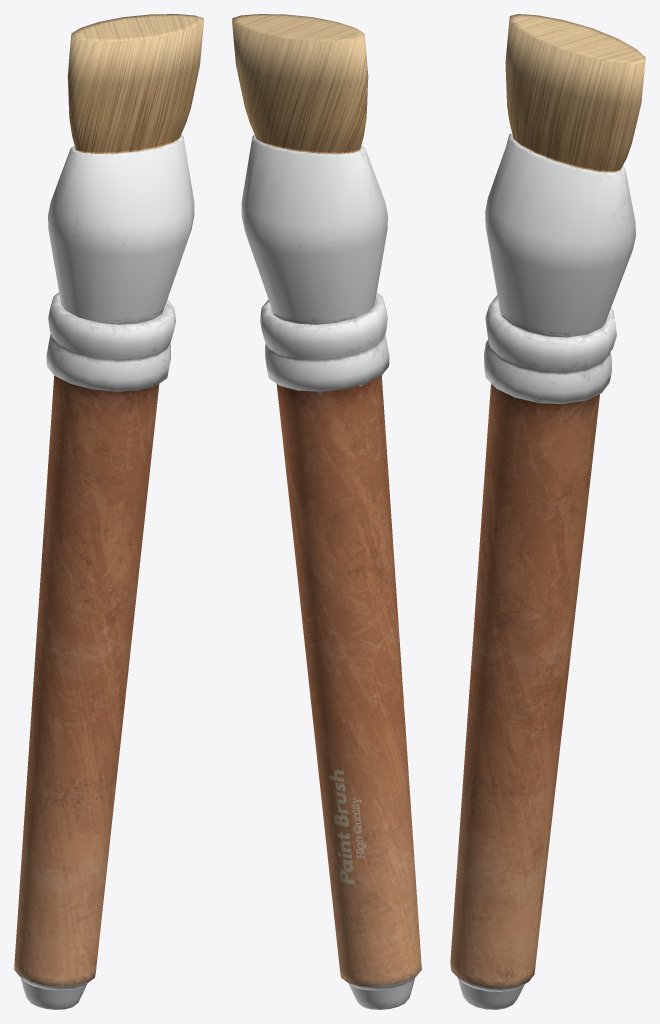
Rendered from clean_paint_brush.glb.
3 renders of one model, left to right at view 1: azimuth 30°, elevation 25°; view 2: azimuth 150°, elevation 25°; view 3: azimuth 330°, elevation 25°, orthographic. The views are drawn at different scales.
Visible parts, largest first — view 1: PaintBrush_LP; view 2: PaintBrush_LP; view 3: PaintBrush_LP.
Part boxes in pixels (x1,y1,x2,y2): PaintBrush_LP: (14, 14, 203, 1009); PaintBrush_LP: (232, 14, 421, 1009); PaintBrush_LP: (450, 14, 645, 1009).
Bounding box in the file's own units: 0.72 × 3.59 × 0.4373.
Materials: 1 (1 with a texture image).
